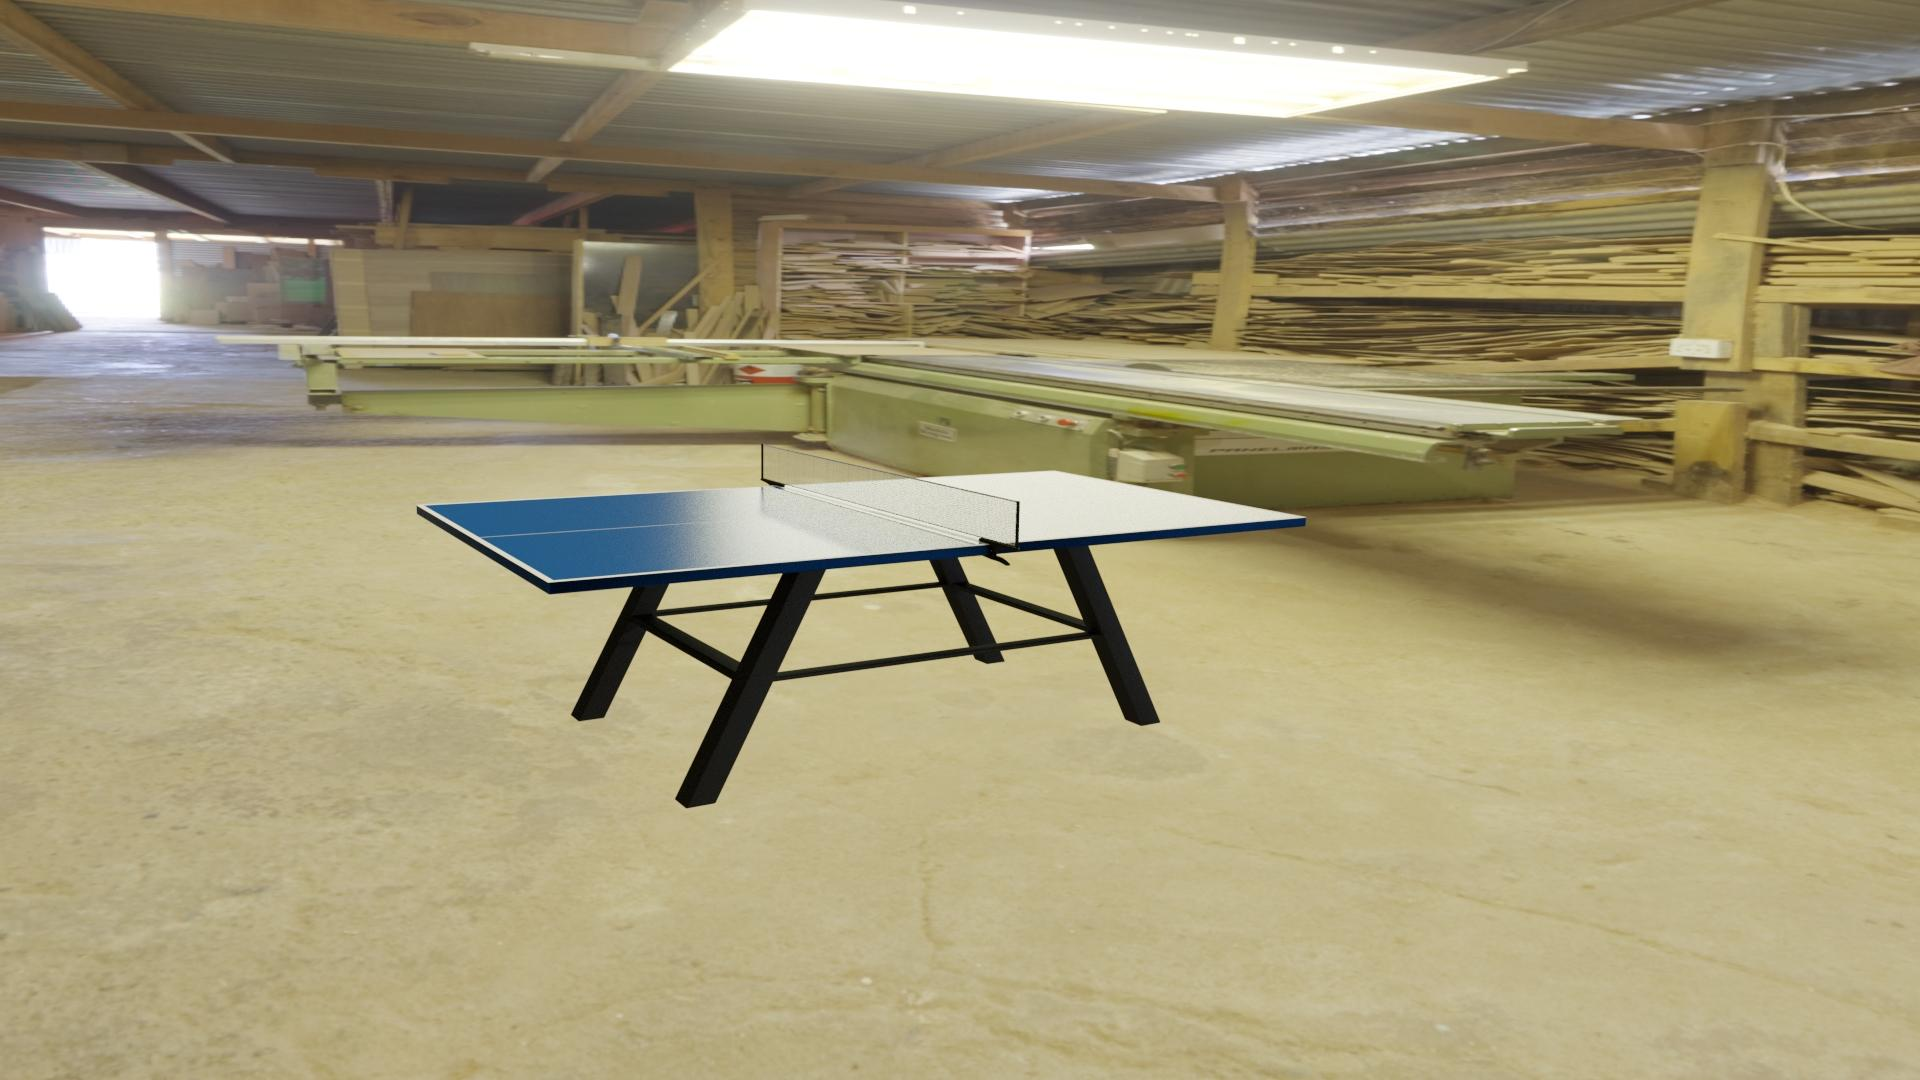table: (423, 471, 1299, 580)
